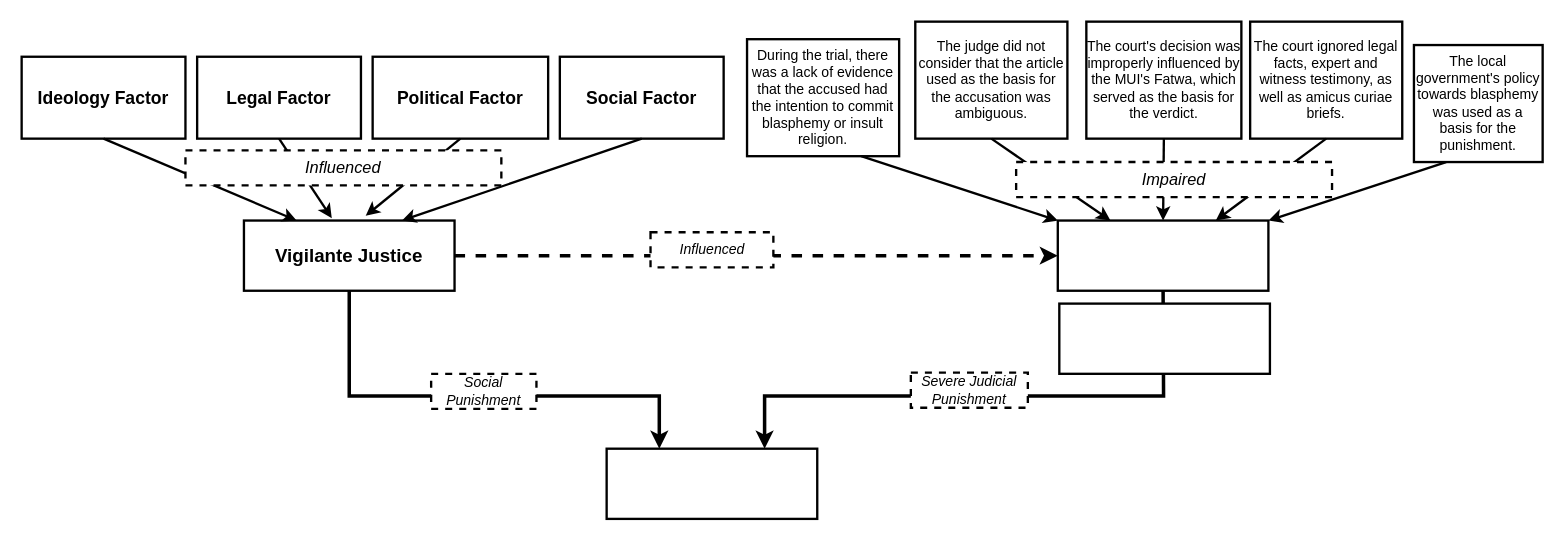
This 1563x539 diagram has some shape labels left out. The shapes that lost their labels are listed below. From the top down, each one's centre as x and y in pixels, then its label:
point 1162,255: Judicial Justice
point 1164,338: The Court Rulling Miscarriage of Justice
point 711,483: The Acussed
